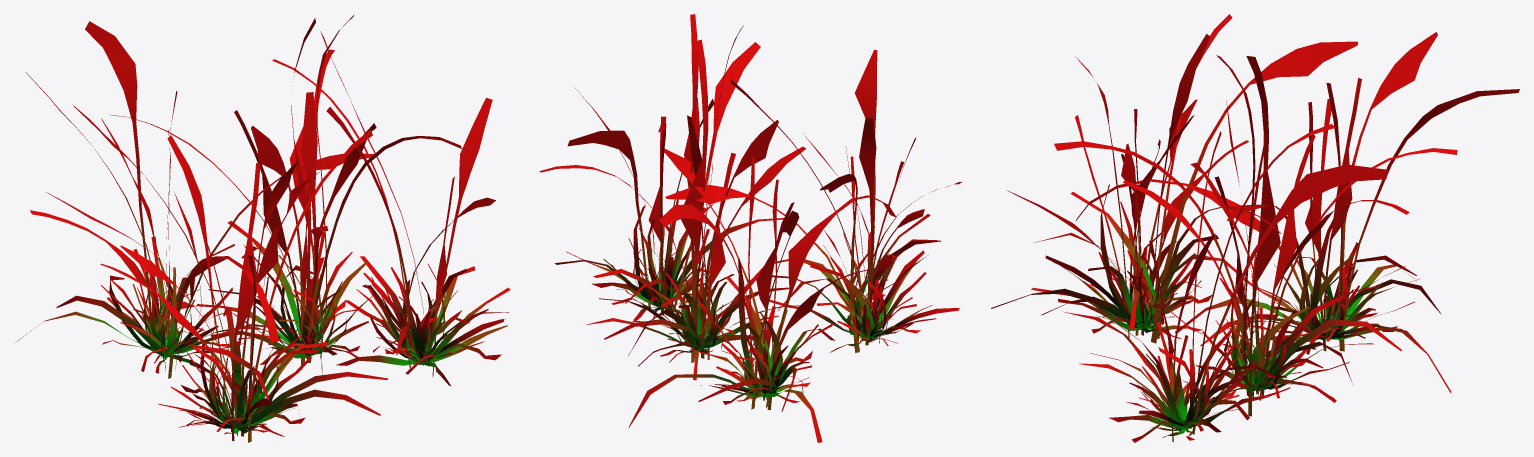
File: TallGrass3.FBX
3 renders of one model, left to right at view 1: azimuth 30°, elevation 25°; view 2: azimuth 150°, elevation 25°; view 3: azimuth 270°, elevation 25°, orthographic. The views are drawn at different scales.
Visible parts, largest first — view 1: TallGrass3_LOD0; view 2: TallGrass3_LOD0; view 3: TallGrass3_LOD0.
Boxes of the visible parts, x1=… form: TallGrass3_LOD0: x1=16, y1=14, x2=510, y2=442; TallGrass3_LOD0: x1=539, y1=14, x2=962, y2=442; TallGrass3_LOD0: x1=991, y1=14, x2=1519, y2=442.
Size of what is drawn, in the model's own units: 1.19 by 0.9288 by 1.21.
